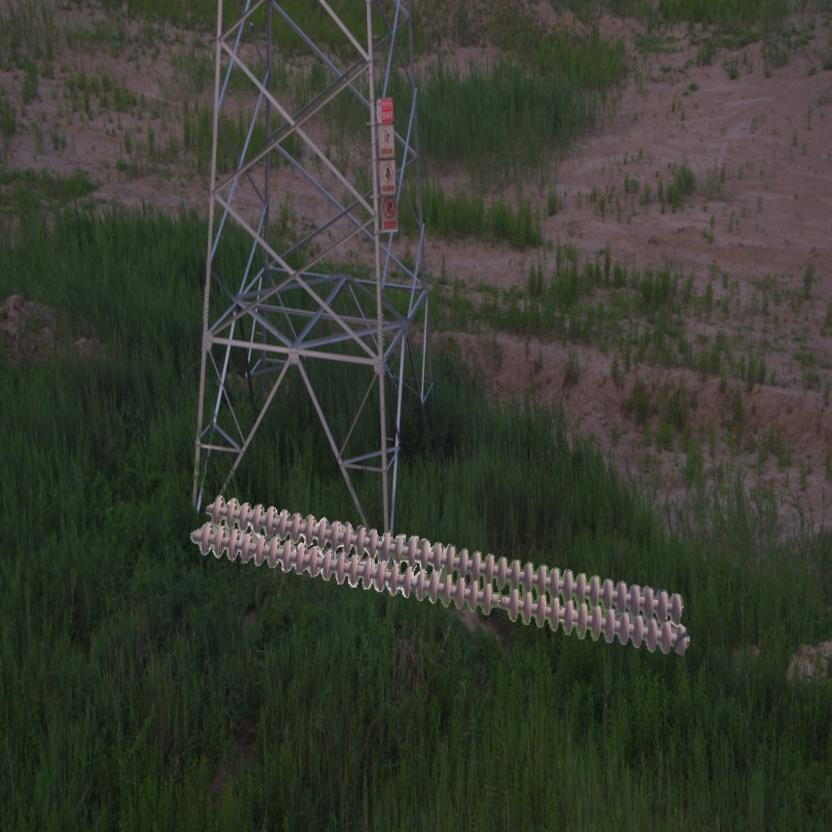defect: (477, 577, 524, 623)
